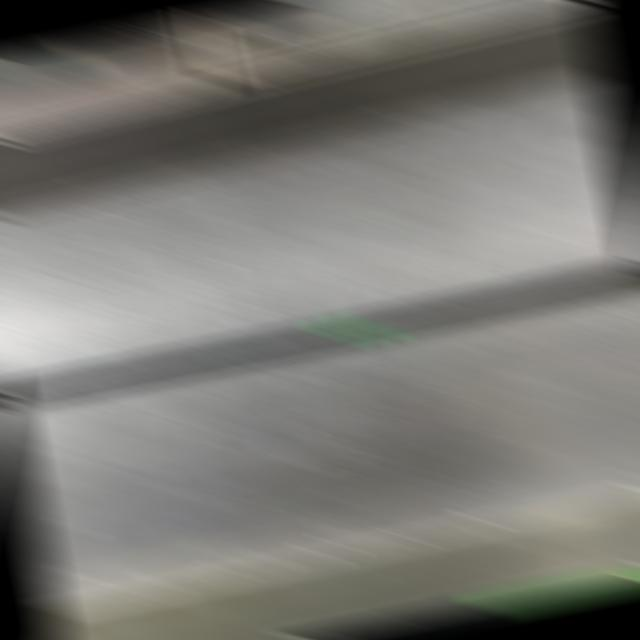green: (316, 312, 396, 347)
